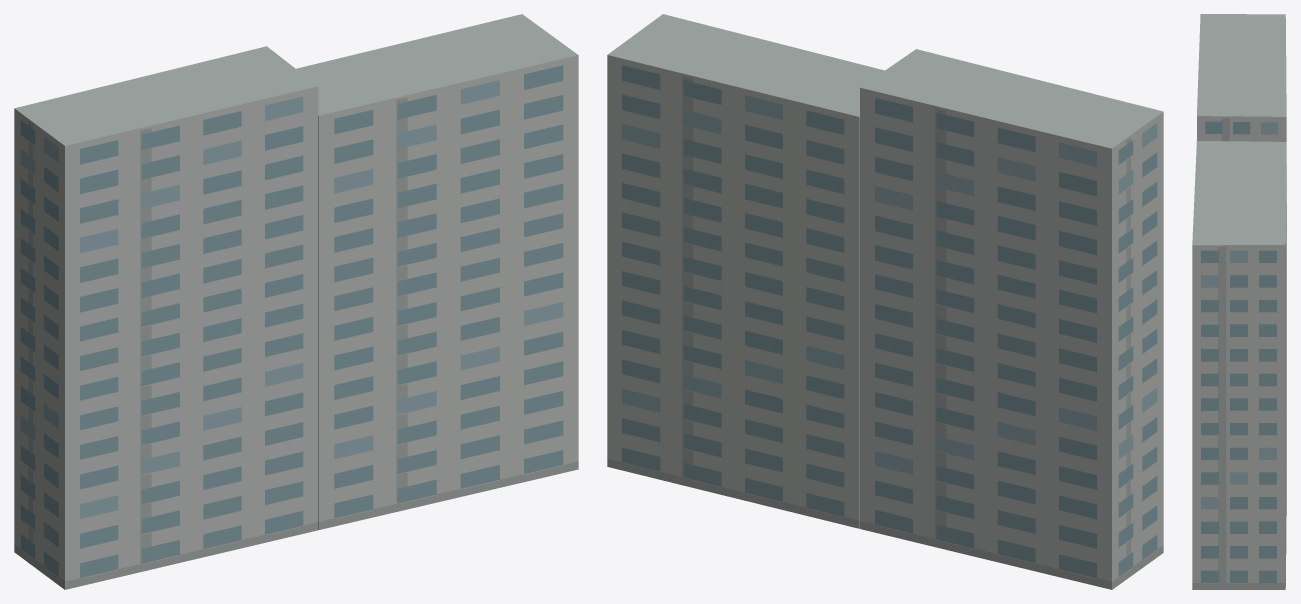
The model's file is residential-a21918c6-1582-42d7-b0cb-7303a4e60d96.glb.
3 views of the same model, side by side, from view 1: azimuth 30°, elevation 25°; view 2: azimuth 150°, elevation 25°; view 3: azimuth 270°, elevation 25° (orthographic). The views are drawn at different scales.
Visible parts, largest first — view 1: residential-a21918c6-1582-42d7-b0cb-7303a4e60d96.tmp; view 2: residential-a21918c6-1582-42d7-b0cb-7303a4e60d96.tmp; view 3: residential-a21918c6-1582-42d7-b0cb-7303a4e60d96.tmp.
Part boxes in pixels (bbox=[...]): residential-a21918c6-1582-42d7-b0cb-7303a4e60d96.tmp: bbox=[14, 14, 578, 589]; residential-a21918c6-1582-42d7-b0cb-7303a4e60d96.tmp: bbox=[607, 14, 1163, 589]; residential-a21918c6-1582-42d7-b0cb-7303a4e60d96.tmp: bbox=[1192, 14, 1286, 589].
Bounding box in the file's own units: 54.87 × 45.75 × 10.61.
